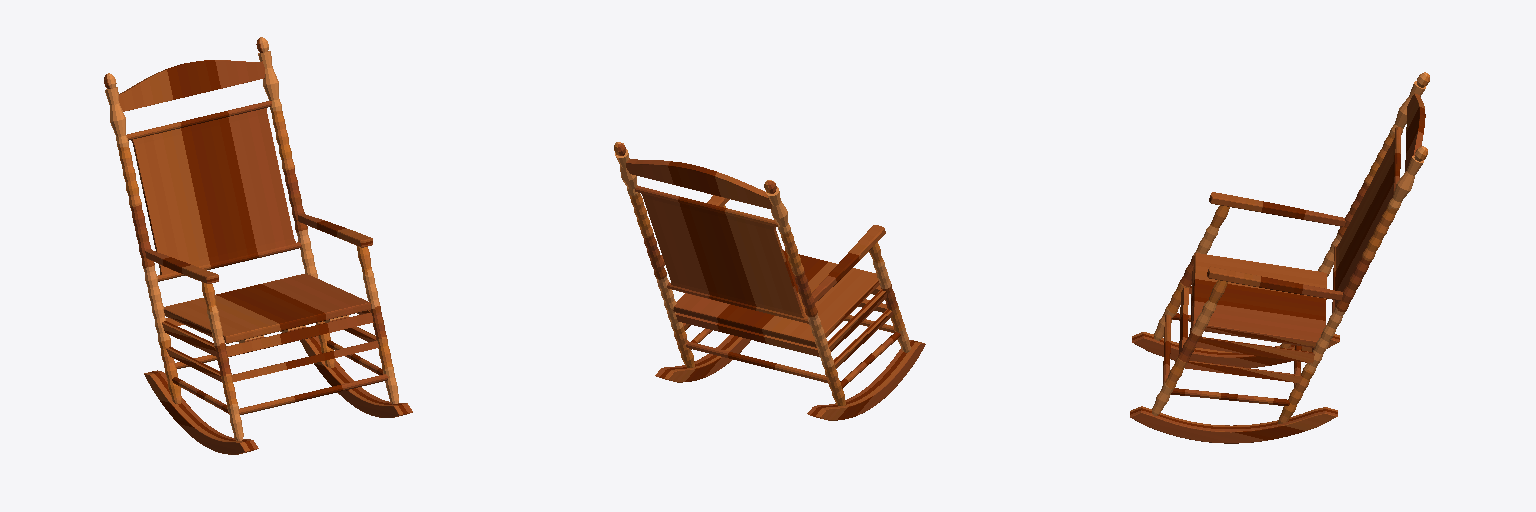
3 views of the same model, side by side, from view 1: azimuth 30°, elevation 25°; view 2: azimuth 150°, elevation 25°; view 3: azimuth 270°, elevation 25° (orthographic).
Visible parts, largest first — view 1: chair1:Object071; view 2: chair1:Object071; view 3: chair1:Object071.
Boxes of the visible parts, box(x1,y1,x2,y2) form: chair1:Object071: box(104, 37, 412, 454); chair1:Object071: box(614, 142, 925, 420); chair1:Object071: box(1130, 72, 1429, 443).
Size of the model in its own units: 2.29 by 3.8 by 3.52.
Materials: 2 (2 with a texture image).